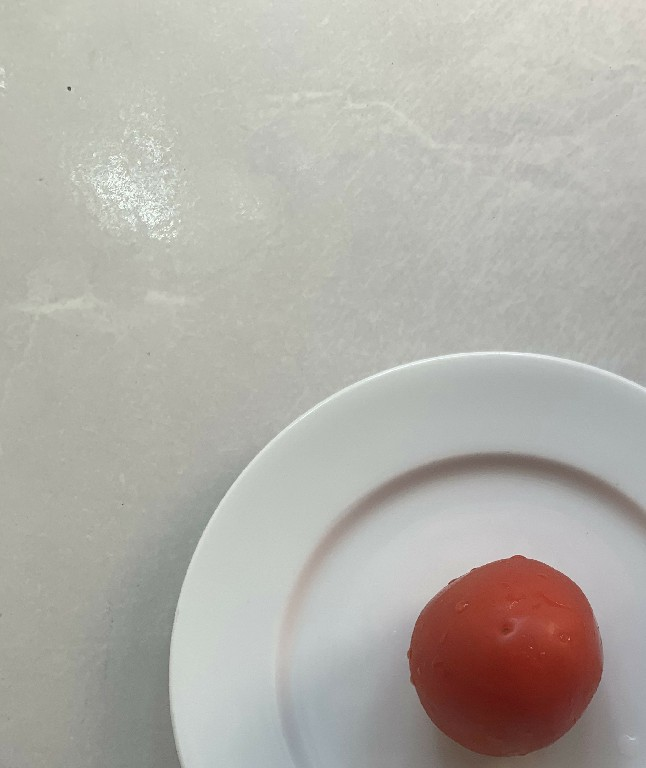OK: (399, 546, 615, 762)
